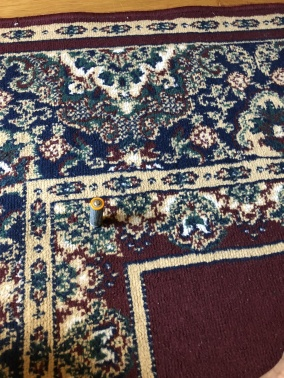battery: (80, 193, 113, 232)
